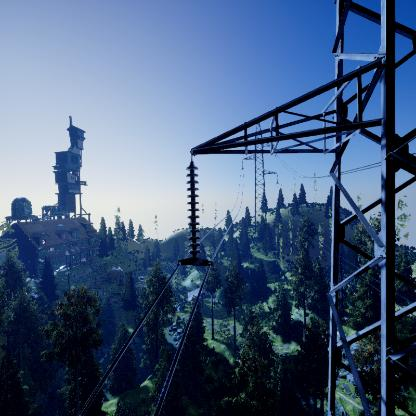insulator: (185, 163, 203, 256)
